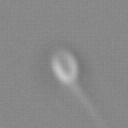normal: (70, 81, 105, 128)
